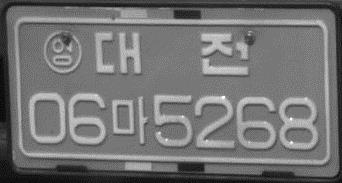0: (27, 91, 66, 144)
2: (193, 93, 234, 149)
5: (151, 93, 194, 147)
6: (234, 94, 276, 149), (67, 91, 107, 146)
8: (278, 96, 319, 150)
대전_D: (92, 29, 250, 76)
마: (109, 95, 149, 145)
영: (41, 29, 82, 74)
